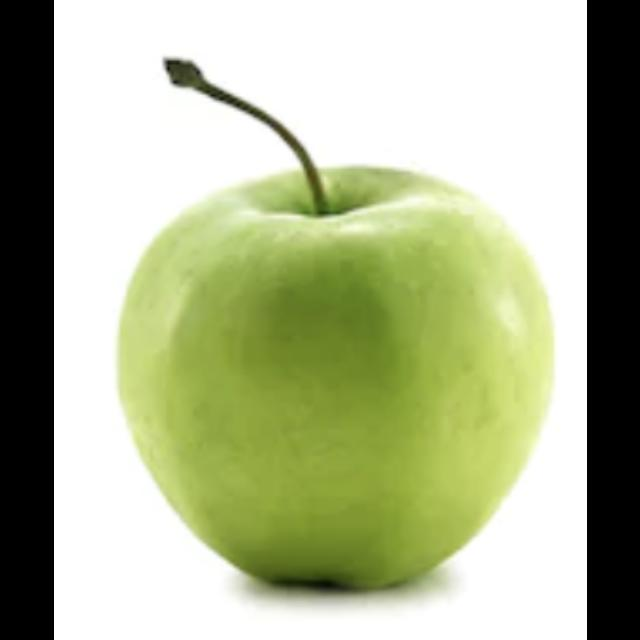Apel Segar: (118, 146, 544, 610)
